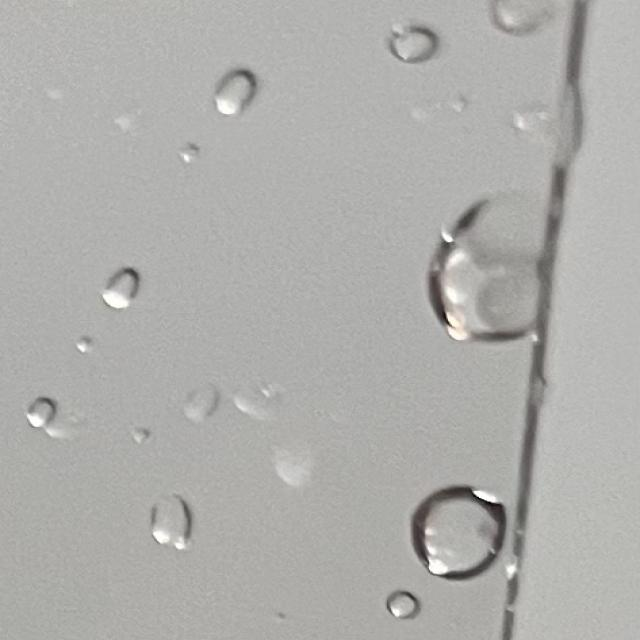raindrop: (419, 205, 576, 348), (398, 471, 510, 582), (136, 478, 204, 554), (234, 368, 301, 429), (476, 0, 570, 37), (260, 432, 328, 482), (84, 258, 149, 310), (208, 73, 276, 119), (382, 579, 443, 629), (169, 390, 233, 432), (388, 29, 454, 64), (19, 396, 72, 436), (168, 138, 218, 174), (64, 327, 108, 353), (120, 424, 152, 448)
